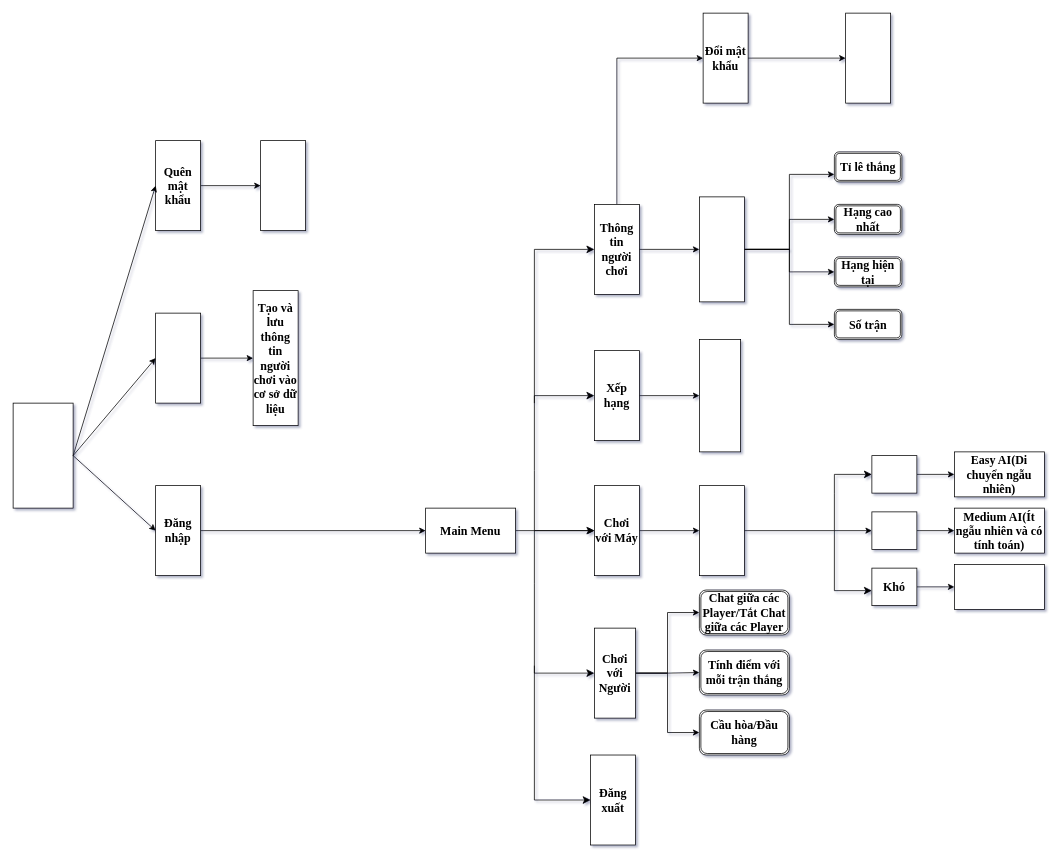
Image size: 1062x863. Some labels were removed from this diagram. The centre of each missing label's shape, as x and y in pixels:
Chess game: pixel 42 455
Chưa nghĩ ra solution: pixel 283 185
Dificult AI(Di chuyển có tính toán hoàn toàn): pixel 999 586
Dễ: pixel 894 474
Lựa chọn độ khó của Máy: pixel 721 530
Trung bình: pixel 894 530
Truy vấn các thông số của người chơi và hiển thị: pixel 721 249
Update thông tin trong SQL: pixel 868 57
Xem bảng xếp hạng của các Player trong Server: pixel 720 395
Đăng ký: pixel 178 357
